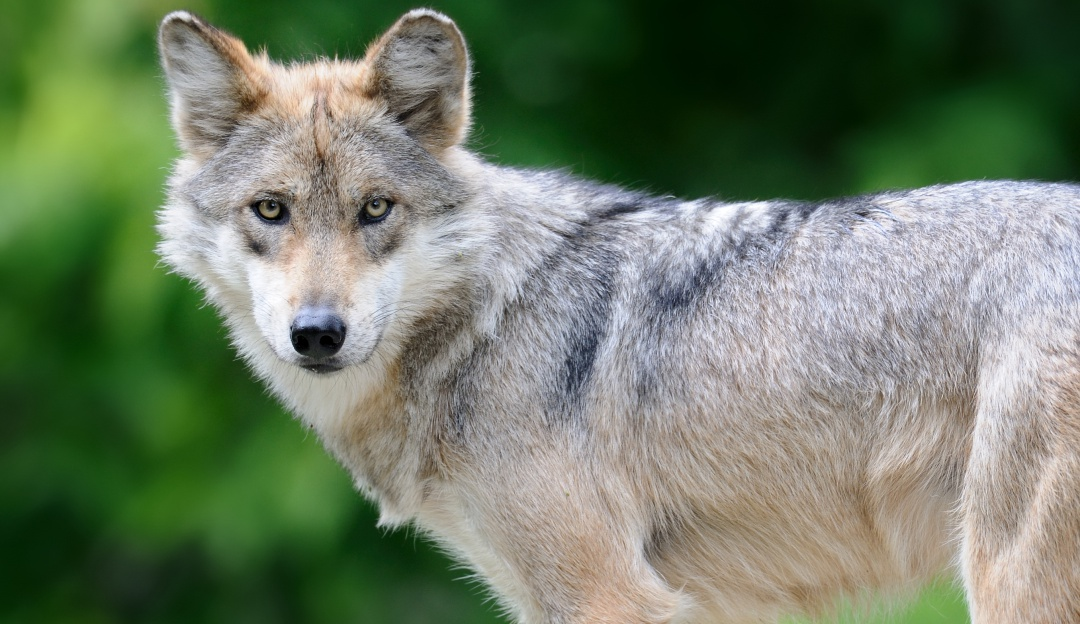Lobo: (100, 9, 1061, 611)
